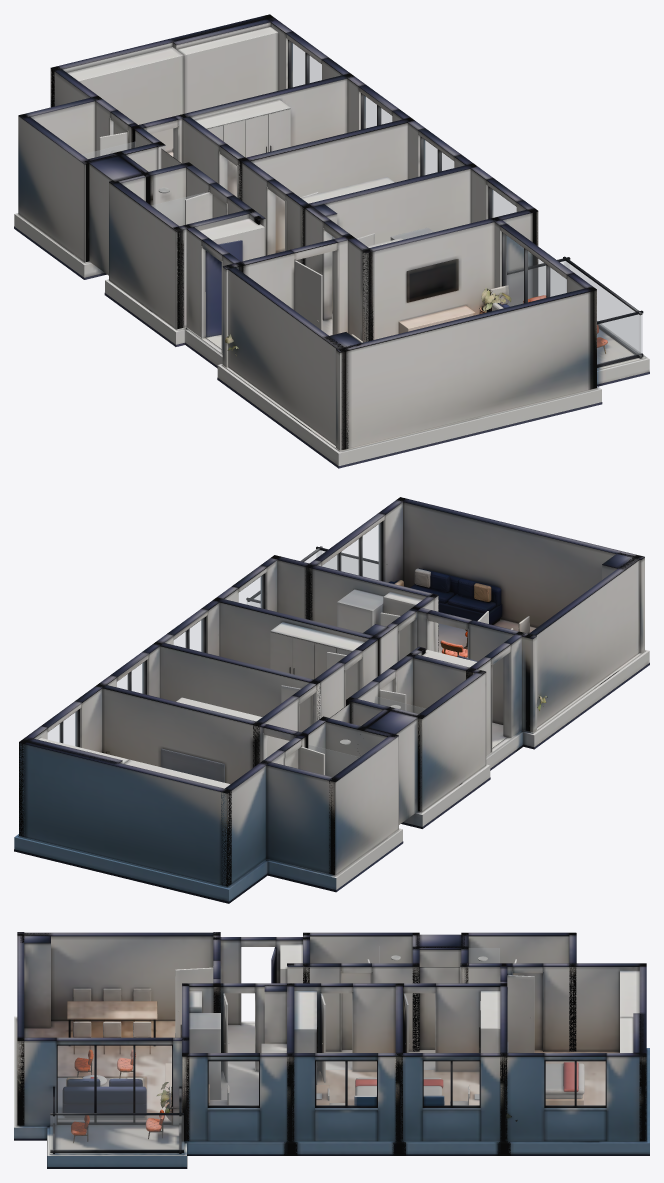
The picture shows the model from 3 angles, top to bottom: view 1: azimuth 30°, elevation 25°; view 2: azimuth 150°, elevation 25°; view 3: azimuth 270°, elevation 25°; orthographic projection. The views are drawn at different scales.
Parts seen in each view (by area): view 1: plan, glass4_m, railg4_m, railg1_m, railg0_m, glass0_m, glass2_m; view 2: plan, glass4_m, sg.001_m, railg1_m, glass0_m; view 3: plan, glass4_m, railg4_m, glass0_m, glass2_m, glass3_m, glass1_m, sg_m.
Boxes of the visible parts, x1,y1,x2,y2 form: plan: (14, 14, 649, 468); glass4_m: (504, 234, 566, 306); railg4_m: (564, 261, 641, 355); railg1_m: (597, 314, 642, 364); railg0_m: (507, 261, 568, 305); glass0_m: (290, 42, 321, 87); glass2_m: (422, 138, 453, 175); plan: (14, 497, 649, 903); glass4_m: (322, 523, 380, 580); sg.001_m: (309, 745, 359, 776); railg1_m: (317, 550, 377, 579); glass0_m: (48, 711, 77, 746); plan: (14, 932, 649, 1168); glass4_m: (58, 1046, 171, 1121); railg4_m: (50, 1115, 183, 1149); glass0_m: (546, 1061, 605, 1105); glass2_m: (316, 1061, 376, 1105); glass3_m: (209, 1061, 258, 1105); glass1_m: (424, 1061, 479, 1105); sg_m: (469, 948, 499, 962).
Size of the model in its own units: 7.95 by 2.62 by 15.31.
Materials: 2 (1 with a texture image).
